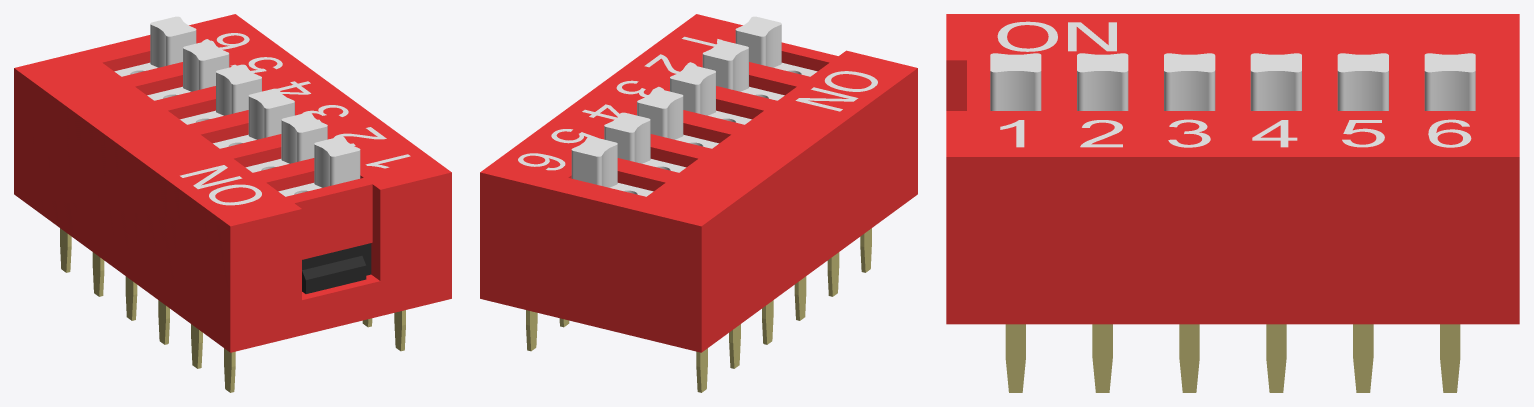
3 renders of one model, left to right at view 1: azimuth 30°, elevation 25°; view 2: azimuth 150°, elevation 25°; view 3: azimuth 270°, elevation 25°, orthographic. The views are drawn at different scales.
Parts seen in each view (by area): view 1: =>[0:1:1:3], =>[0:1:1:2]; view 2: =>[0:1:1:3], =>[0:1:1:2]; view 3: =>[0:1:1:3], =>[0:1:1:2].
Boxes of the visible parts, box(x1,y1,x2,y2) form: =>[0:1:1:3]: box(14, 14, 451, 392); =>[0:1:1:2]: box(180, 33, 410, 205); =>[0:1:1:3]: box(480, 14, 917, 392); =>[0:1:1:2]: box(518, 36, 877, 170); =>[0:1:1:3]: box(946, 14, 1519, 392); =>[0:1:1:2]: box(997, 21, 1471, 147).
Size of the model in its own units: 0.0099 by 0.0093 by 0.0168.
